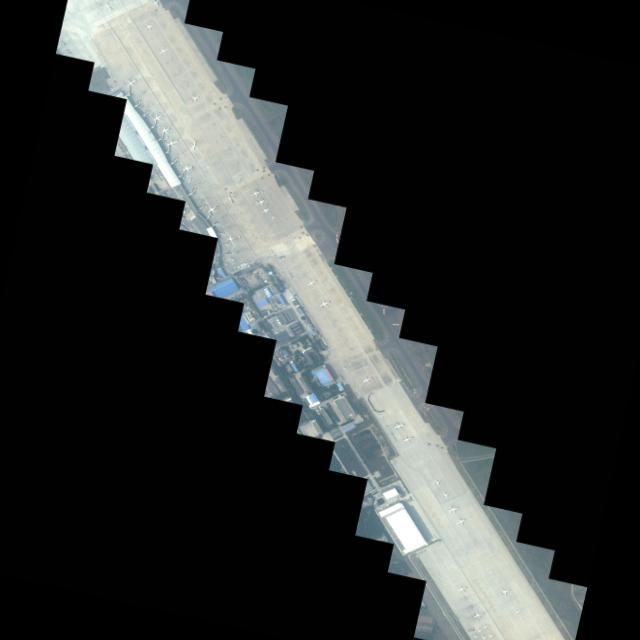plane: (496, 586, 511, 597), (123, 77, 137, 88), (455, 583, 469, 593), (317, 298, 331, 308), (102, 1, 114, 12), (141, 21, 154, 31), (445, 504, 458, 514), (164, 137, 177, 147), (186, 93, 199, 103), (188, 138, 198, 151), (205, 203, 218, 213), (360, 374, 373, 384), (453, 516, 465, 526), (471, 610, 483, 620), (401, 434, 413, 444), (392, 420, 404, 430), (156, 46, 169, 55), (180, 163, 193, 172), (304, 278, 317, 287), (151, 112, 162, 122), (158, 125, 170, 134), (247, 189, 259, 198), (253, 197, 265, 206), (258, 206, 270, 215), (223, 194, 234, 203), (225, 234, 235, 243), (148, 0, 159, 8), (430, 478, 440, 486), (511, 607, 520, 615), (440, 491, 448, 499), (479, 633, 486, 640), (470, 632, 477, 639), (481, 623, 489, 629), (487, 632, 495, 638), (475, 627, 482, 632)
